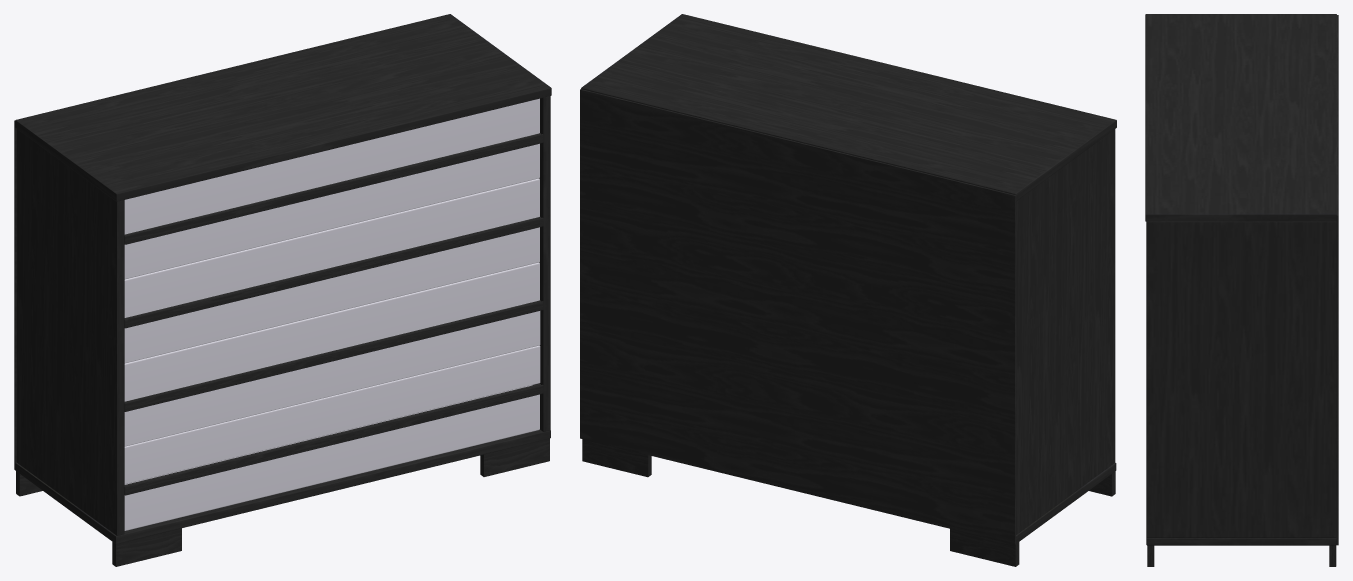
File: cabinet_B07GFDPB2V.glb
The picture shows the model from 3 angles, left to right: view 1: azimuth 30°, elevation 25°; view 2: azimuth 150°, elevation 25°; view 3: azimuth 270°, elevation 25°; orthographic projection. The views are drawn at different scales.
Visible parts, largest first — view 1: RootNode; view 2: RootNode; view 3: RootNode.
Part boxes in pixels (x1,y1,x2,y2): RootNode: (14,14,551,566); RootNode: (580,14,1116,566); RootNode: (1145,14,1338,566).
Size of the model in its own units: 0.9938 by 0.8156 by 0.4042.
Materials: 1 (1 with a texture image).
